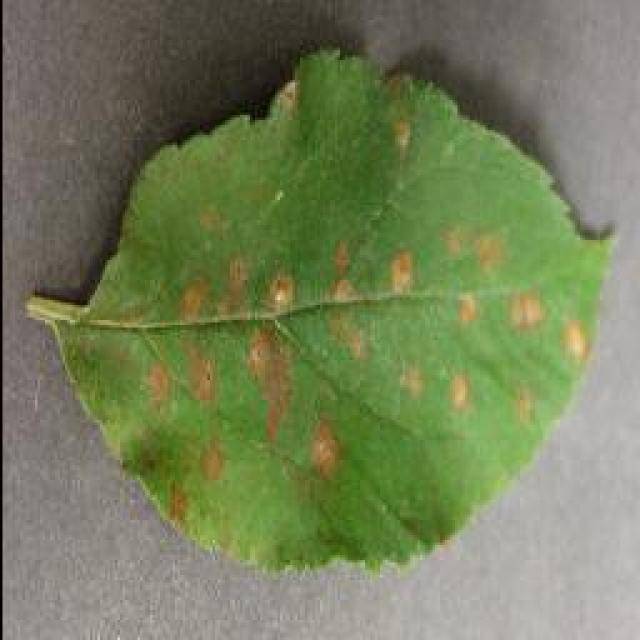apple rust disease: (22, 45, 618, 577)
